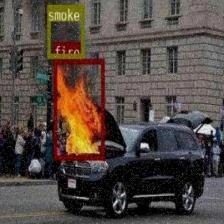smoke: (47, 4, 84, 58)
